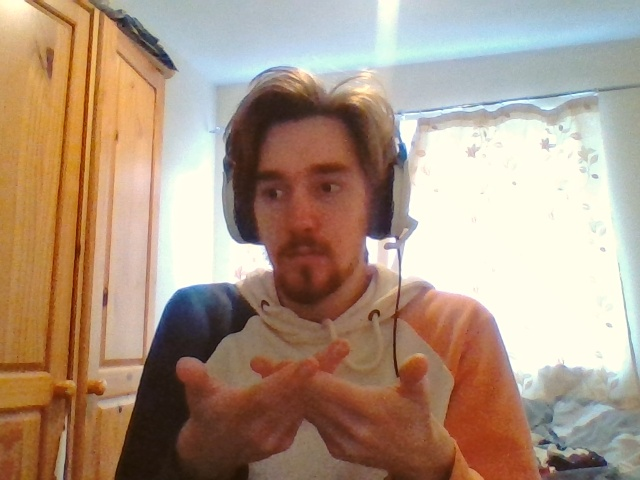how: (177, 342, 429, 464)
